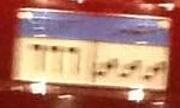6: (31, 42, 48, 72), (50, 45, 65, 75), (68, 46, 82, 76)
saad: (93, 55, 117, 80), (119, 57, 141, 79), (145, 58, 167, 80)
